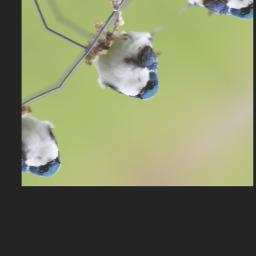Swallow: (73, 0, 202, 117)
